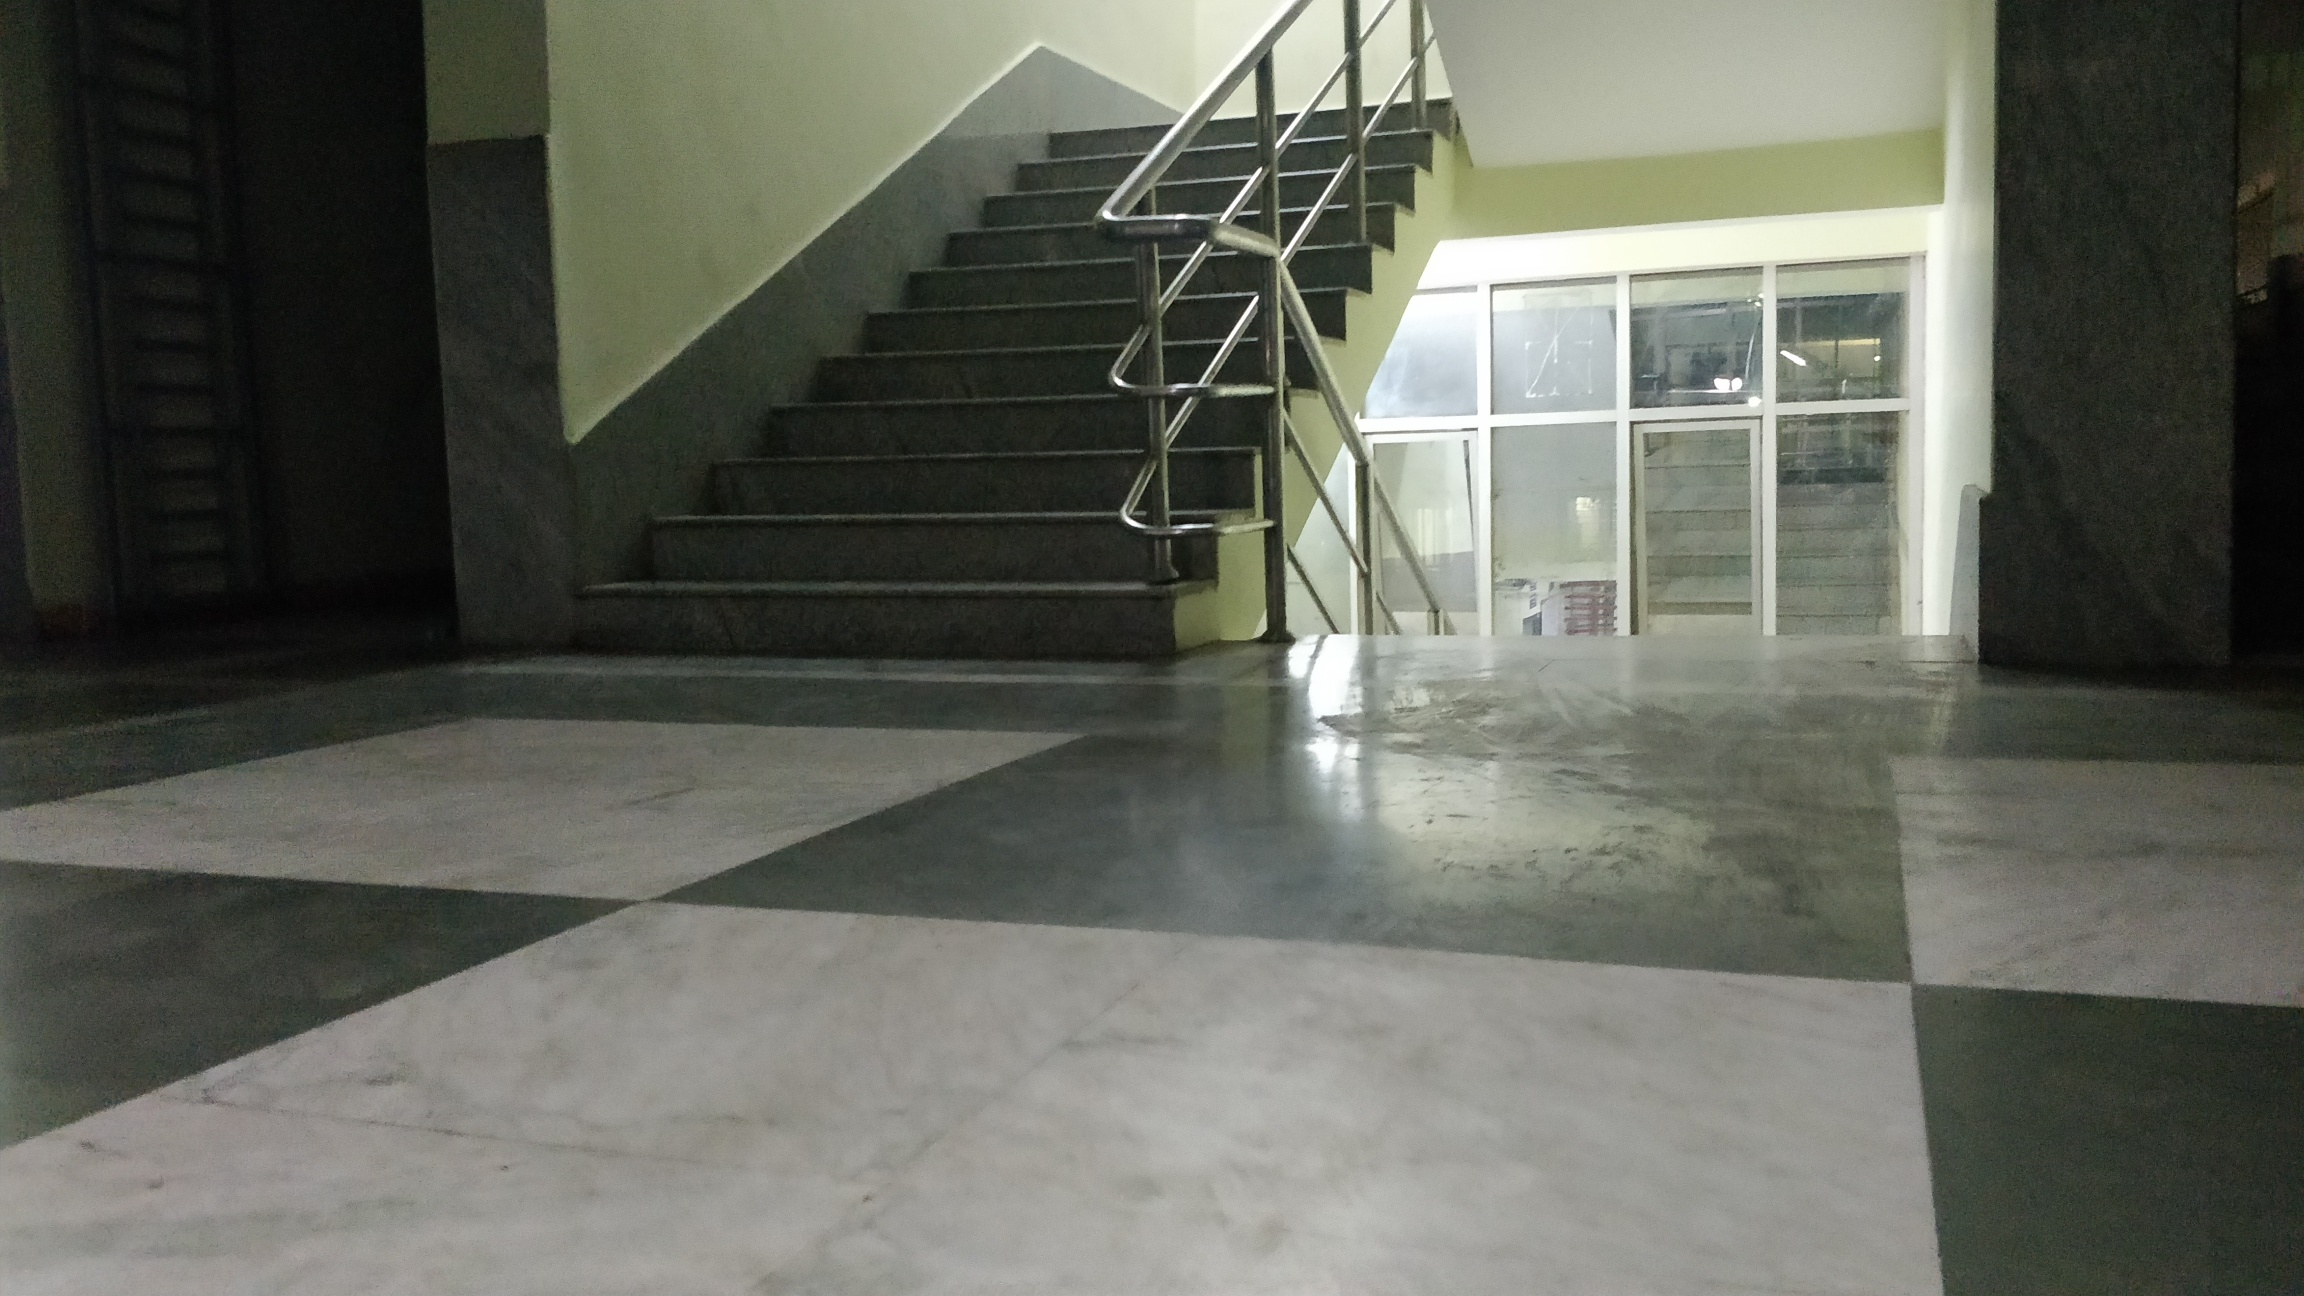stairs_up: (551, 92, 1465, 639)
